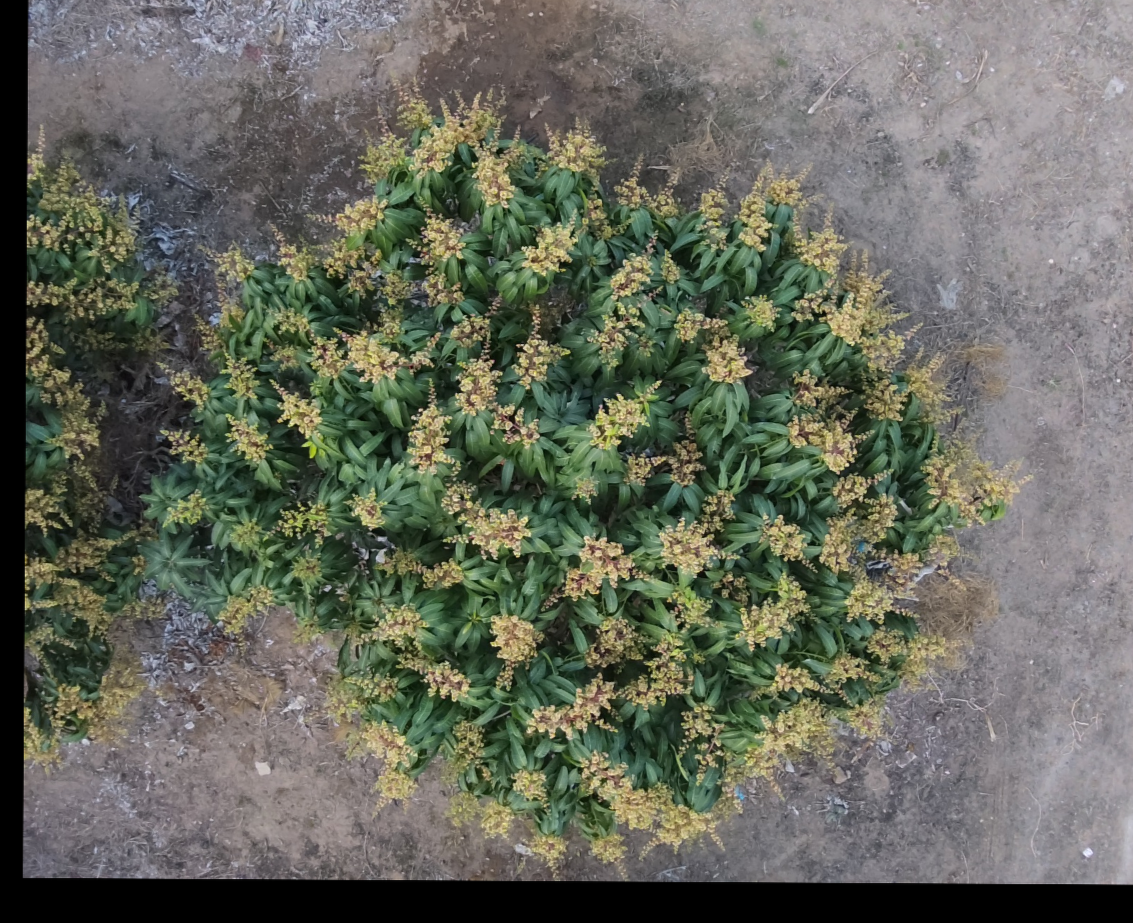flowers: (819, 494, 962, 622), (527, 632, 692, 739), (311, 268, 462, 383), (579, 752, 737, 846), (792, 257, 921, 372), (398, 93, 524, 208), (26, 152, 136, 273), (450, 297, 539, 445), (23, 660, 142, 766), (349, 604, 469, 701), (25, 317, 103, 460), (723, 697, 832, 793), (24, 536, 125, 639), (587, 237, 663, 367), (522, 198, 632, 276), (543, 536, 649, 610), (788, 370, 862, 473), (273, 229, 380, 297), (439, 482, 530, 559), (922, 454, 1020, 523), (863, 356, 958, 425), (24, 456, 103, 536), (737, 164, 805, 253), (623, 414, 704, 486), (674, 310, 752, 384), (25, 276, 140, 324), (763, 653, 880, 700), (738, 573, 809, 650), (358, 722, 416, 813), (407, 383, 461, 477), (588, 380, 660, 450), (514, 305, 568, 389), (659, 520, 737, 576), (791, 202, 847, 276), (538, 122, 606, 180), (490, 615, 543, 689), (614, 159, 679, 219), (678, 703, 724, 785), (406, 204, 465, 266), (377, 549, 464, 589), (327, 673, 397, 719), (584, 617, 647, 668), (669, 587, 729, 640), (23, 624, 88, 672), (308, 197, 386, 237), (448, 792, 515, 838), (271, 381, 322, 440), (445, 720, 492, 783), (761, 515, 813, 570), (866, 629, 946, 664), (359, 126, 406, 185), (218, 585, 274, 634), (157, 361, 210, 411), (273, 502, 329, 547), (70, 327, 163, 354), (698, 172, 728, 250), (226, 415, 271, 466), (831, 471, 890, 509), (198, 243, 255, 282), (160, 429, 207, 465), (222, 353, 258, 399), (843, 697, 882, 739), (699, 489, 734, 535), (347, 489, 386, 530), (527, 831, 566, 870), (164, 491, 206, 525), (511, 769, 547, 808), (742, 295, 777, 331), (143, 270, 177, 307), (194, 315, 224, 356), (229, 519, 264, 554), (217, 289, 245, 330), (121, 596, 166, 621), (264, 338, 299, 370), (590, 833, 626, 864), (715, 574, 749, 606), (275, 308, 312, 336), (123, 520, 158, 544), (291, 556, 321, 582), (293, 619, 323, 644), (660, 250, 680, 284), (573, 477, 597, 502), (637, 335, 653, 357), (131, 556, 145, 576)
